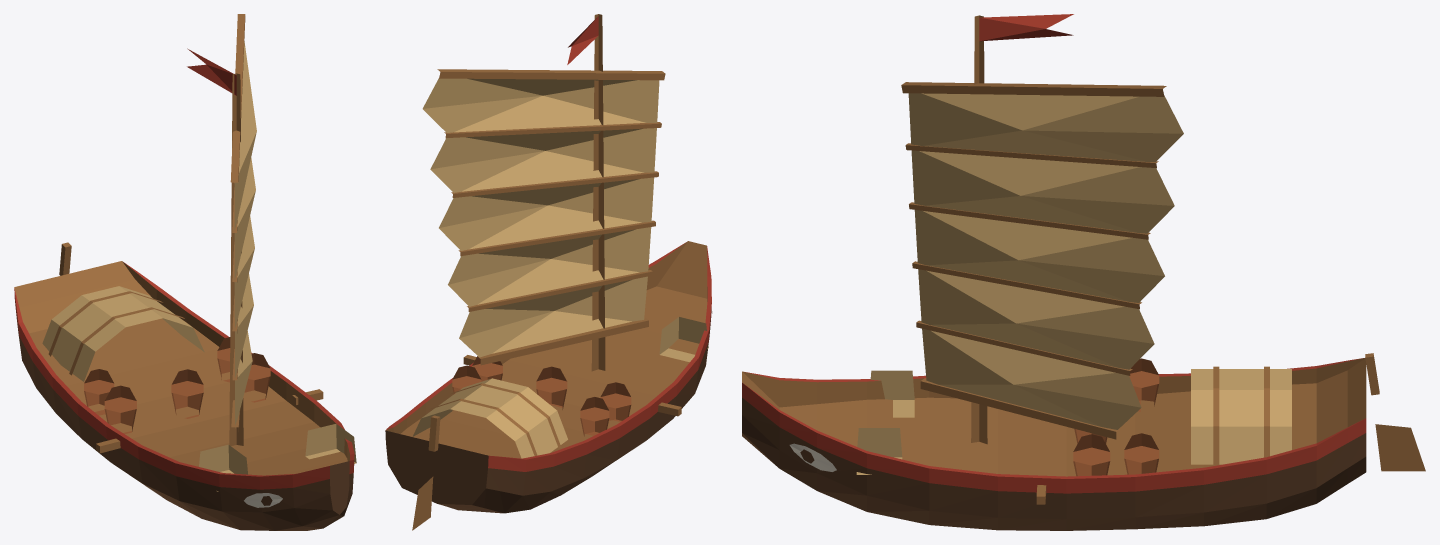
The model's file is ship_coaster.glb.
3 renders of one model, left to right at view 1: azimuth 30°, elevation 25°; view 2: azimuth 150°, elevation 25°; view 3: azimuth 270°, elevation 25°, orthographic. The views are drawn at different scales.
Parts seen in each view (by area): view 1: ship_coaster; view 2: ship_coaster; view 3: ship_coaster.
Boxes of the visible parts, left/top/right/bottom form: ship_coaster: left=14, top=14, right=356, bottom=530; ship_coaster: left=385, top=14, right=712, bottom=530; ship_coaster: left=742, top=14, right=1425, bottom=530.
Bounding box in the file's own units: 4.99 × 9.05 × 11.5.
